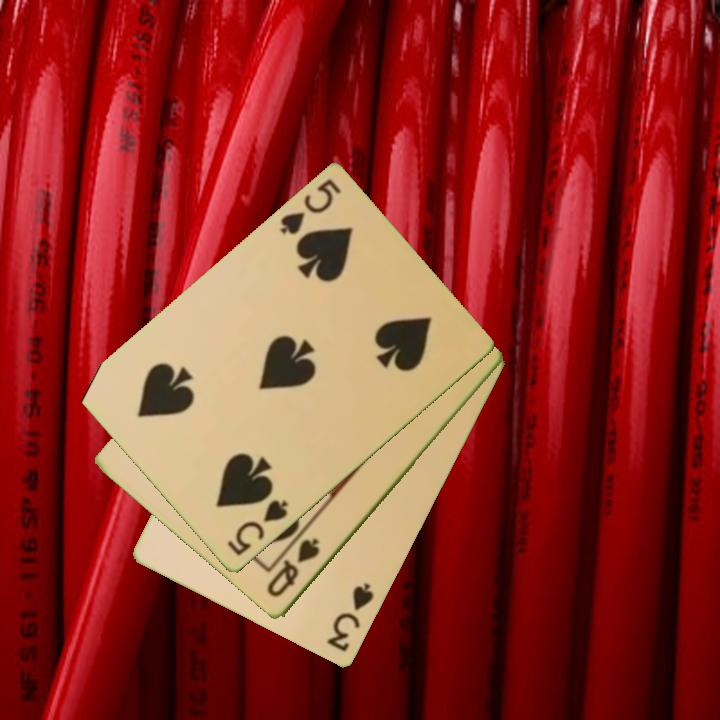3s: (324, 579, 377, 655)
5s: (276, 175, 344, 239), (223, 496, 292, 559)
Qs: (263, 535, 323, 601)
